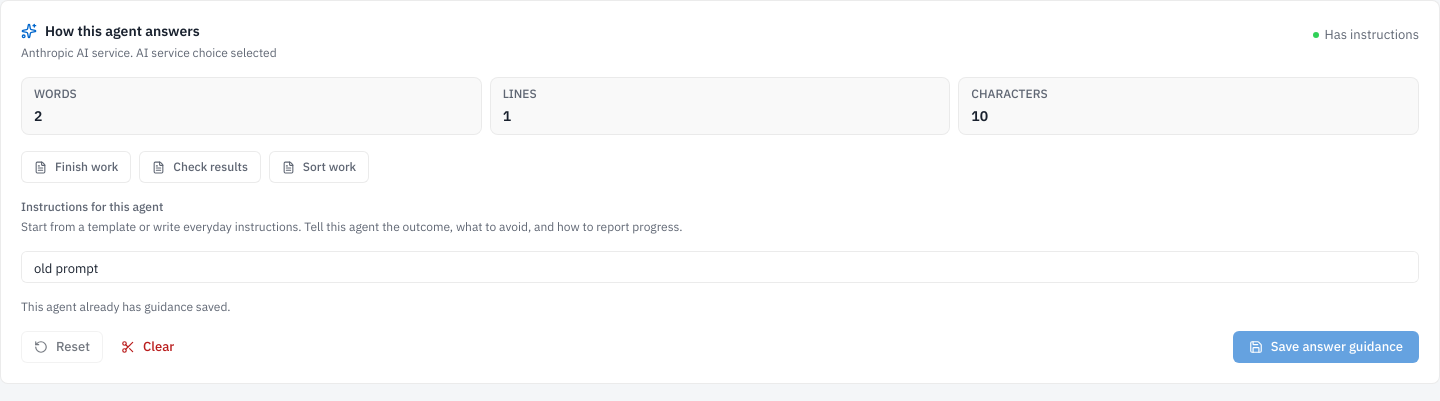
AgentConfigTab › shows a plain-language save failure message
Step 1. Replace the text in the text box labelled "Instructions for this agent" with "new prompt" → (720, 267), box [21,251,1419,283]
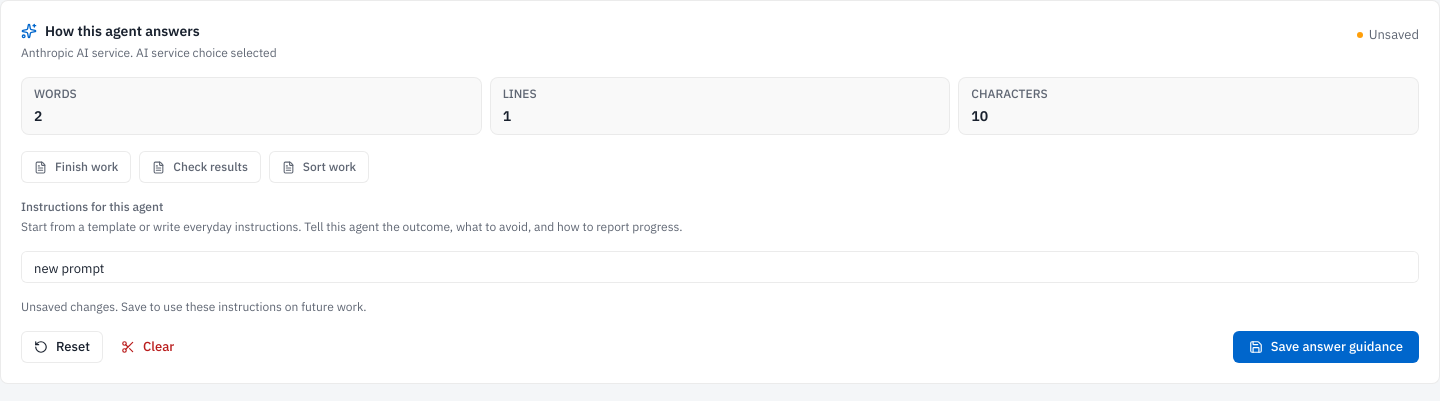
Step 2. Click the button "Save answer guidance" → (1326, 347), box [1233,331,1419,363]
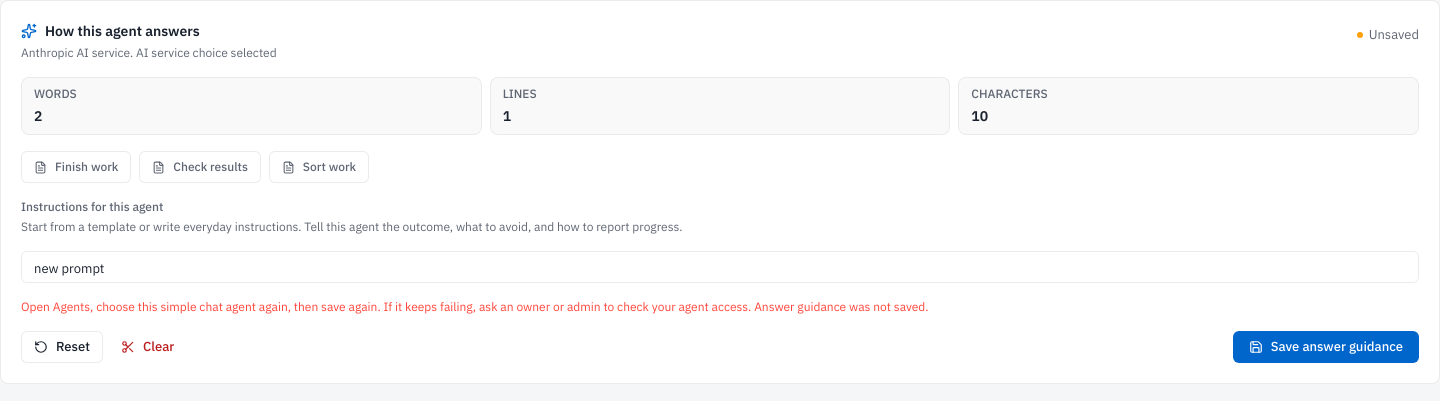
Expected: the message shows "answer guidance was not saved", [21,299,929,314]
Expected: the message shows "Open Agents", [21,299,929,314]
Expected: the message shows "choose this simple chat agent again", [21,299,929,314]
